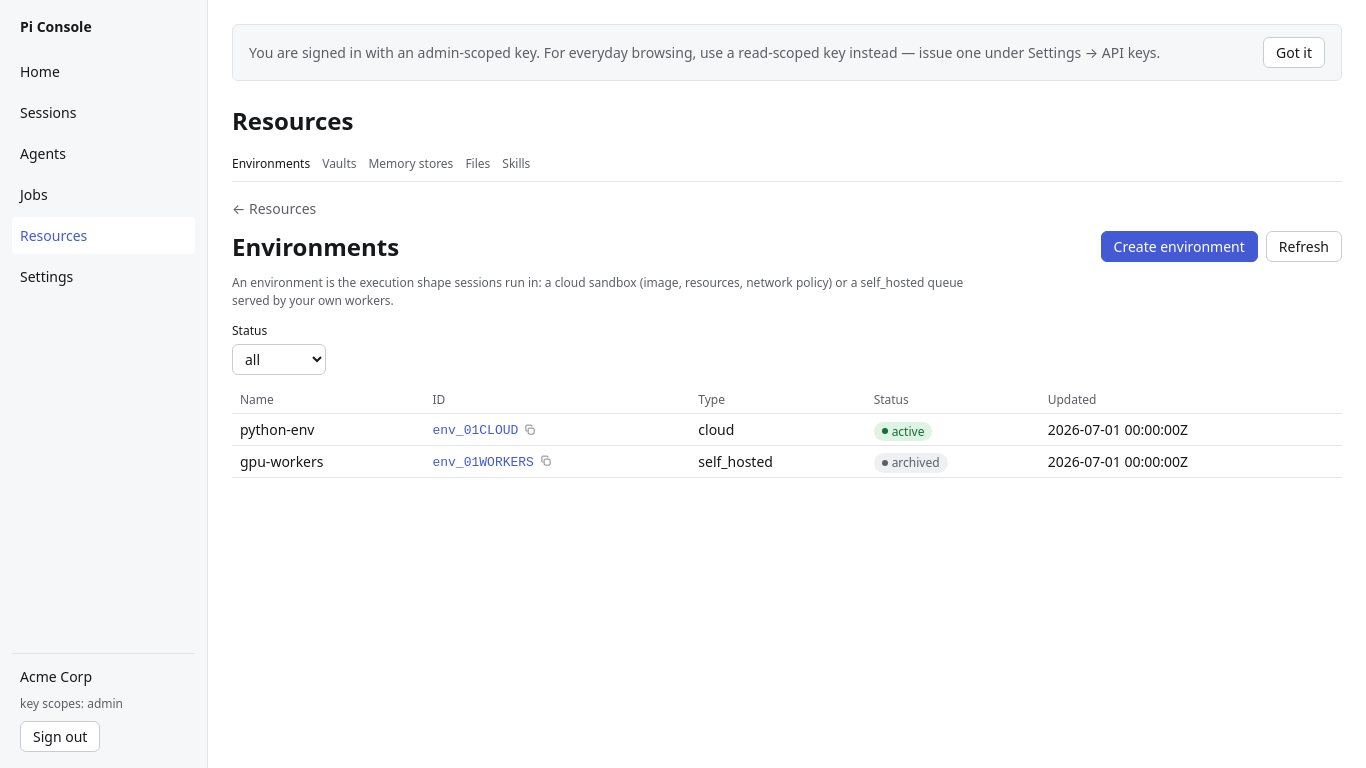
environment create (§9.2, write-gated) › self_hosted type swaps in the worker-model explainer (DP-6)
Expected: the table named "Environments" is shown, [232, 387, 1342, 478]
Click the button "Create environment": (1179, 247) [1100, 231, 1258, 262]
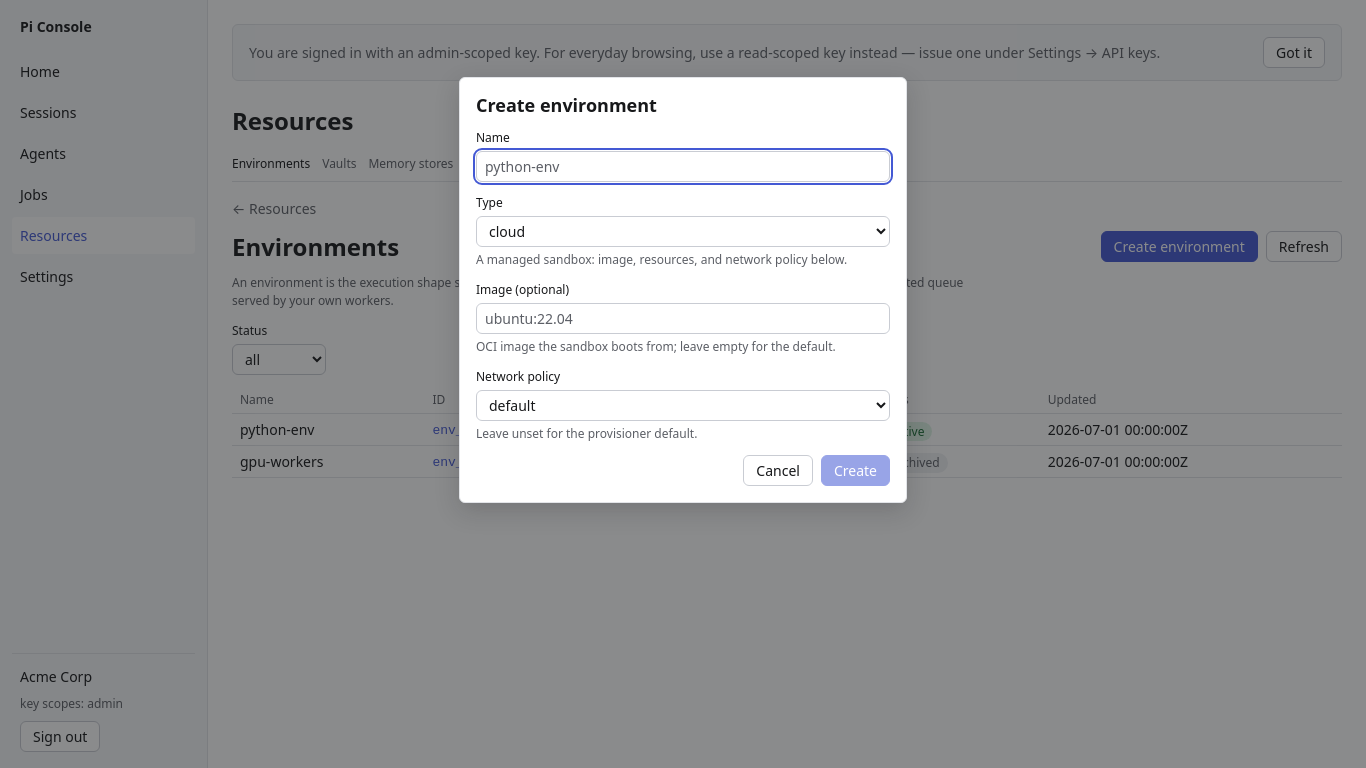
Select "self_hosted" in the dropdown labelled "Type": (683, 232) [476, 216, 890, 247]
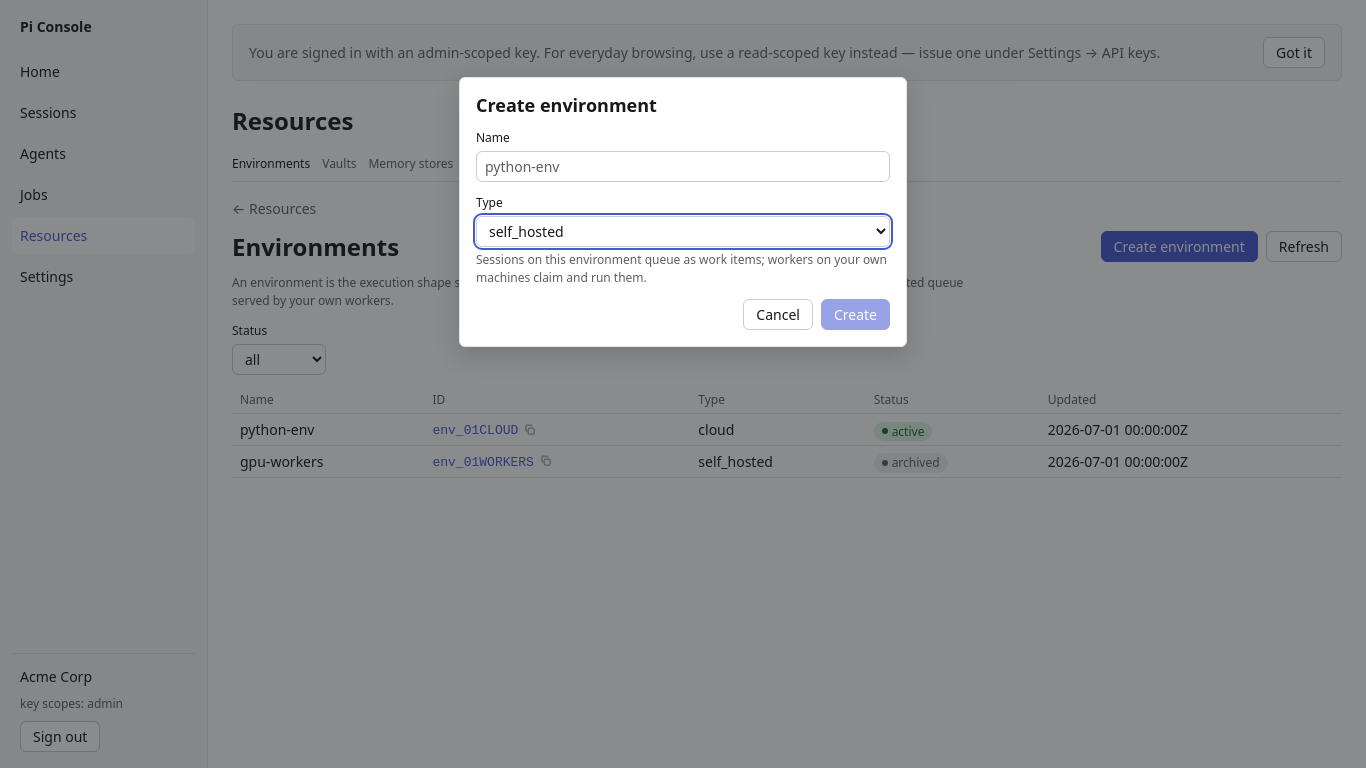
Expected: the field labelled "Network policy" is not shown
Now the text "workers on your own machines claim and run" is shown, box [476, 251, 887, 286]
